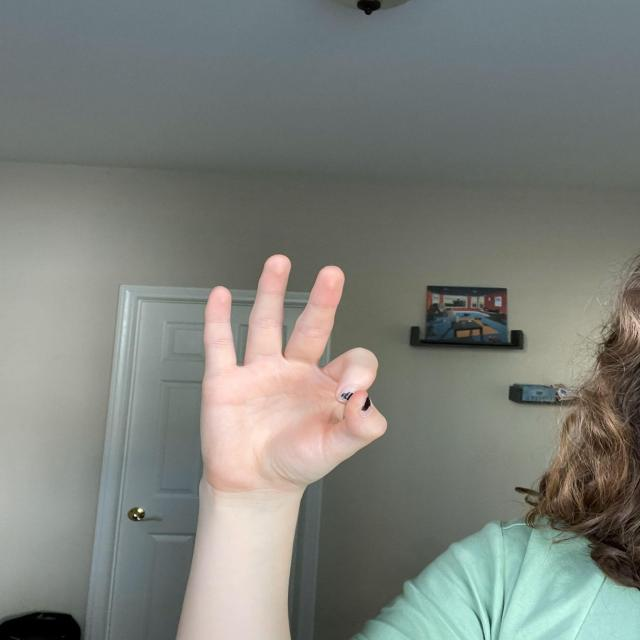F: (194, 251, 392, 491)
